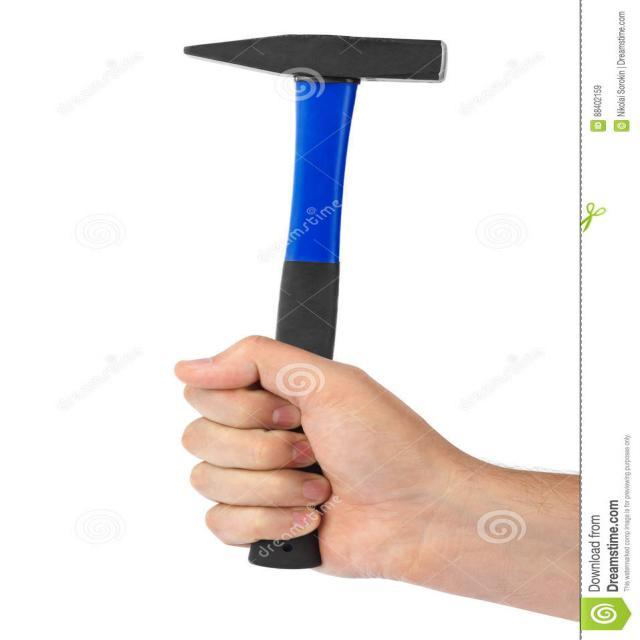hammer: (171, 29, 453, 572)
